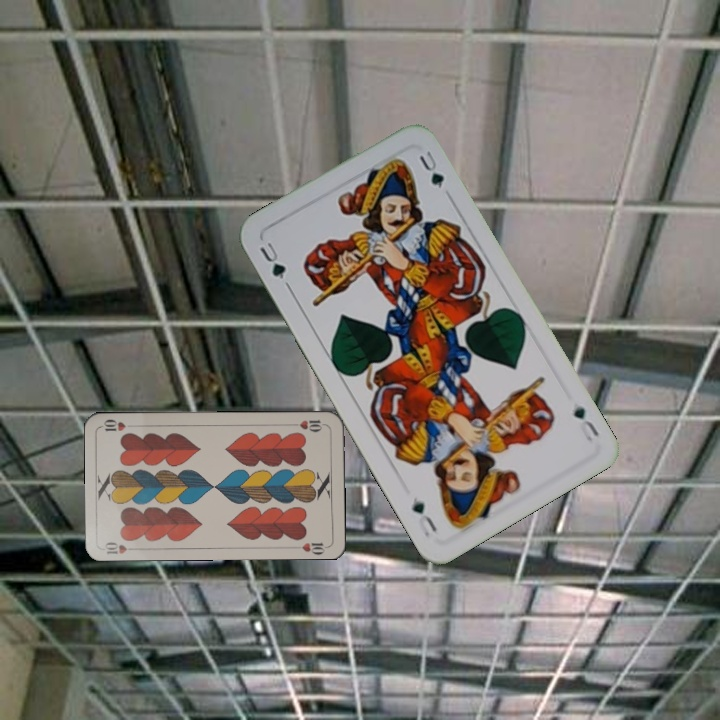GU: (255, 238, 289, 282), (569, 401, 602, 444)
H10: (288, 415, 328, 434), (101, 538, 140, 556)
